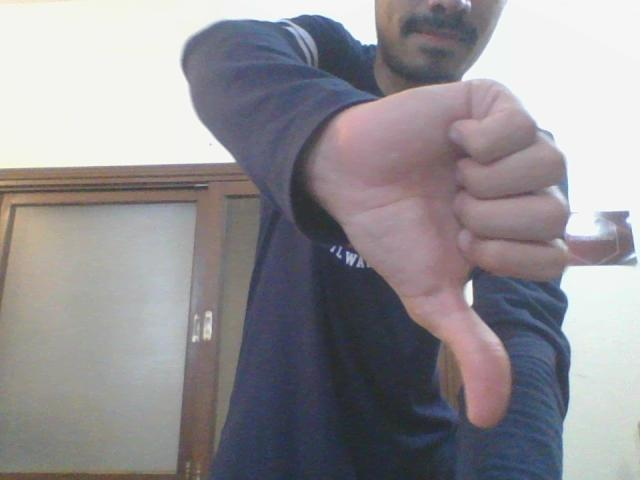thumbs-down: (372, 80, 576, 427)
